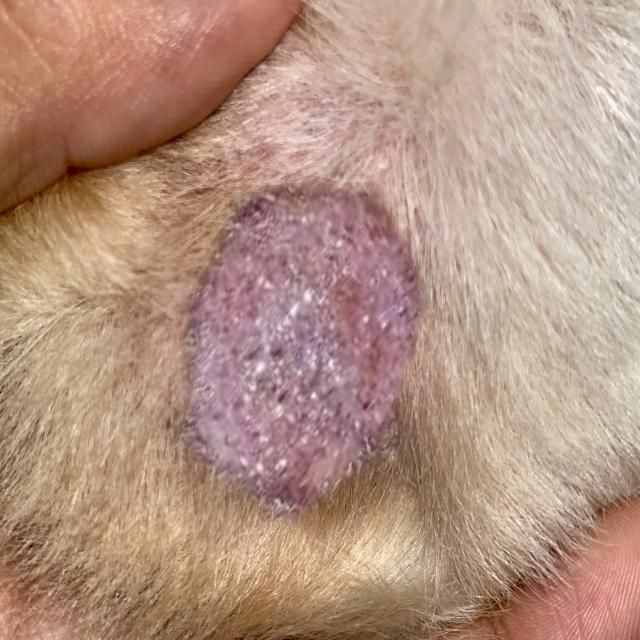ringworm: (170, 165, 440, 523)
